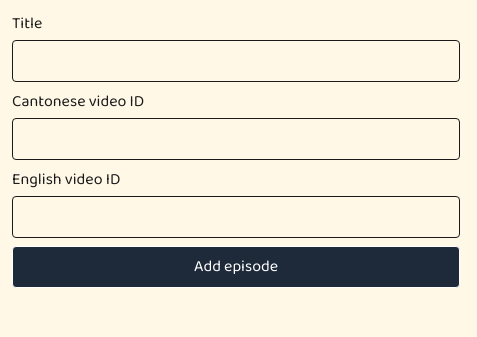
Test case: NewEpisodeForm › shows an error message when the request fails
Type "X" into the field labelled "Title" at (236, 61), box 12,40 -> 460,82
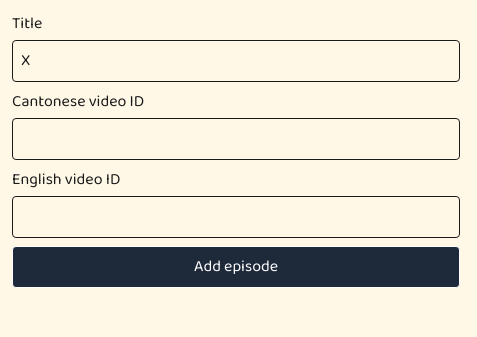
Type "a" into the field labelled "Cantonese video ID" at (236, 139), box 12,118 -> 460,160
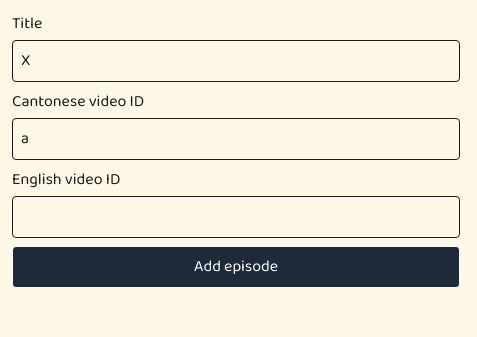
Type "b" into the field labelled "English video ID" at (236, 217), box 12,196 -> 460,238
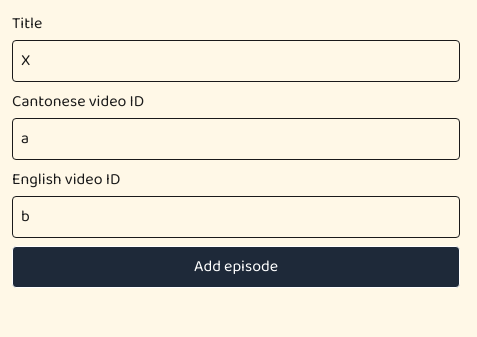
Click the button "Add episode" at (236, 267), box 12,246 -> 460,288
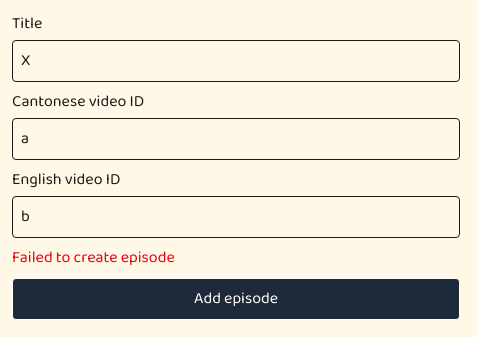
Now the message reads "Failed to create episode", box 12,245 -> 175,270
